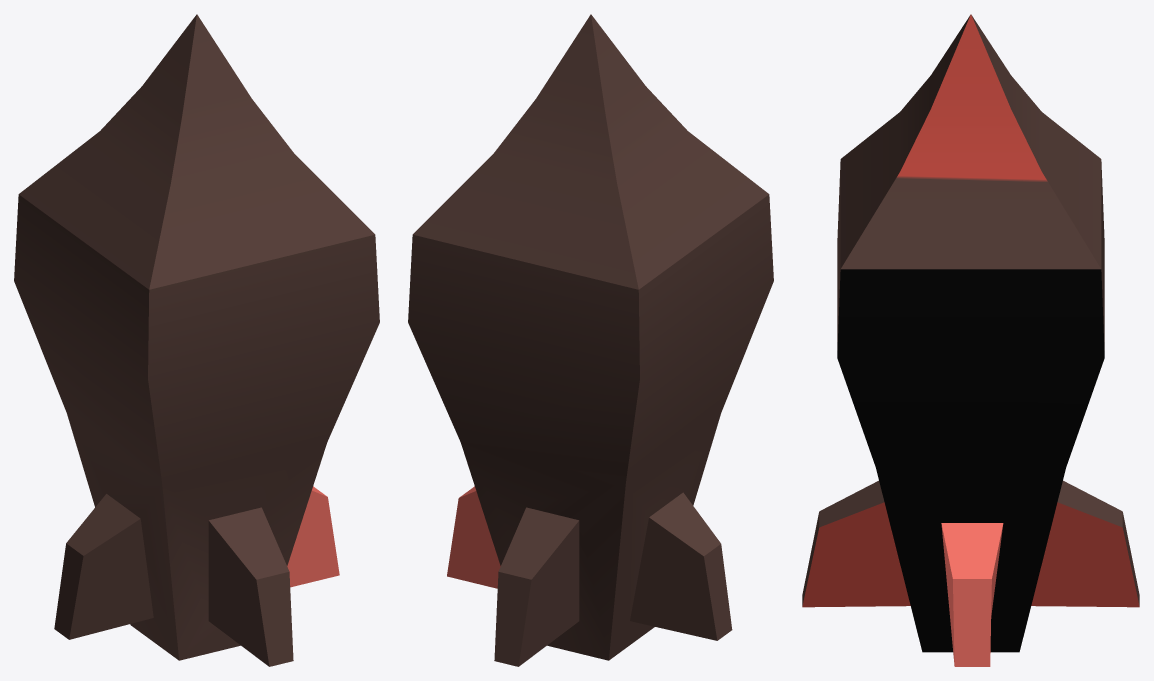
File: enemy bullets.fbx
The picture shows the model from 3 angles, left to right: view 1: azimuth 30°, elevation 25°; view 2: azimuth 150°, elevation 25°; view 3: azimuth 270°, elevation 25°; orthographic projection.
Parts seen in each view (by area): view 1: Cylinder; view 2: Cylinder; view 3: Cylinder.
Boxes of the visible parts, bbox=[...] form: Cylinder: bbox=[14, 14, 379, 666]; Cylinder: bbox=[408, 14, 773, 666]; Cylinder: bbox=[802, 14, 1139, 666].
Size of the model in its own units: 60.59 by 133 by 65.9.
